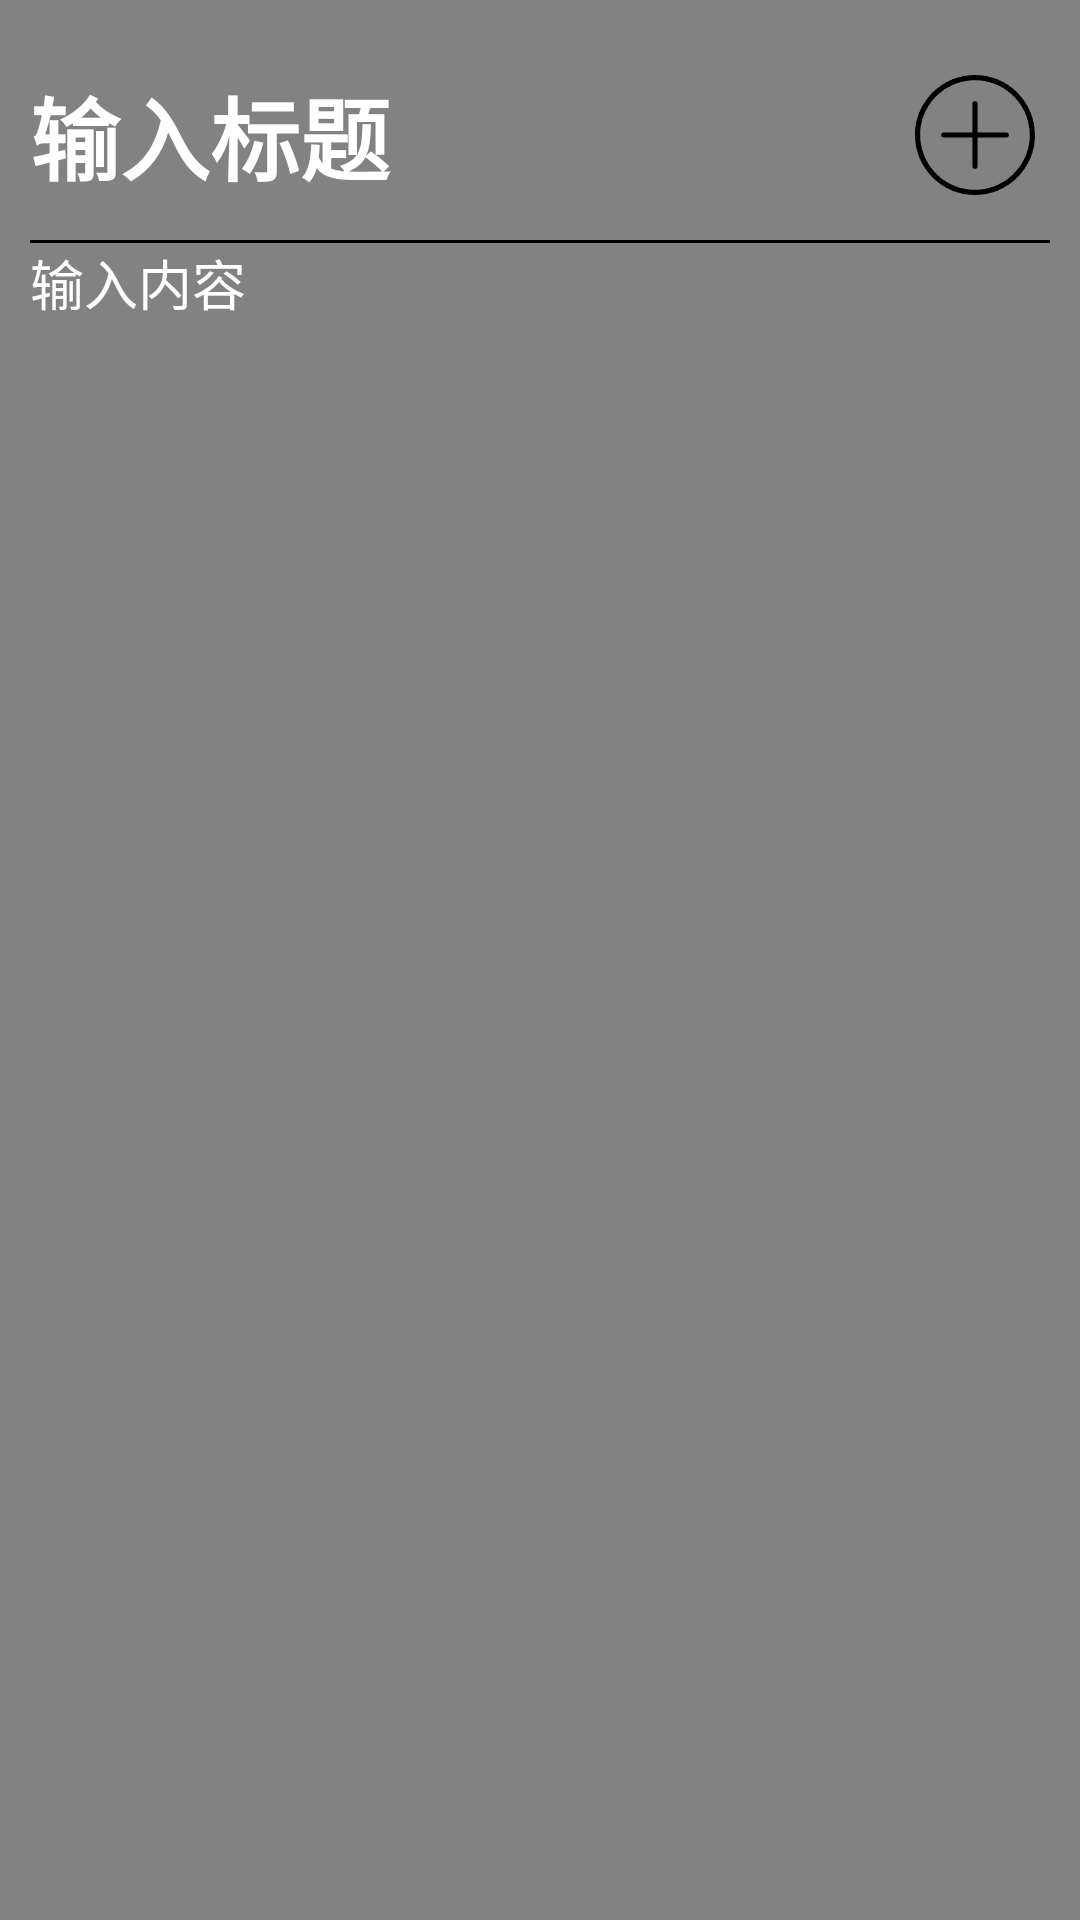

Where icons sit on this 1080×1920 app screen, as (x1, y1, x2, y2):
add: (915, 75, 1035, 195)
